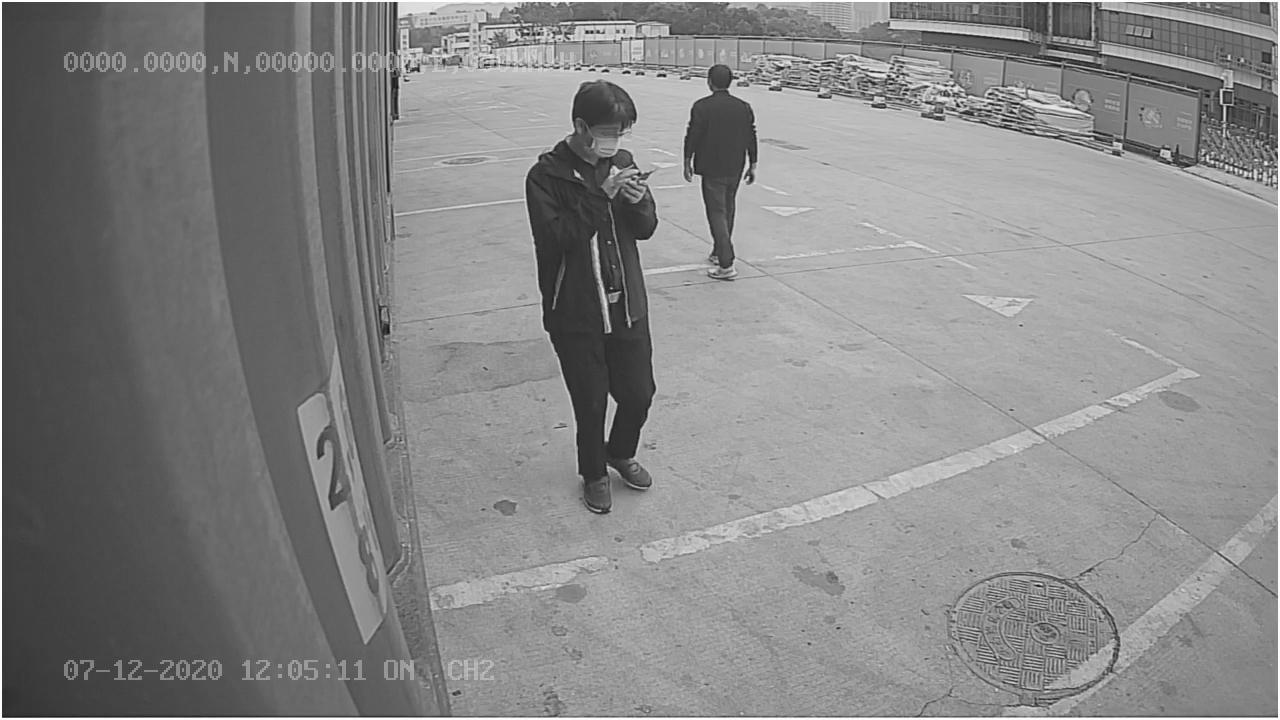person: (517, 72, 667, 515), (684, 59, 763, 289)
